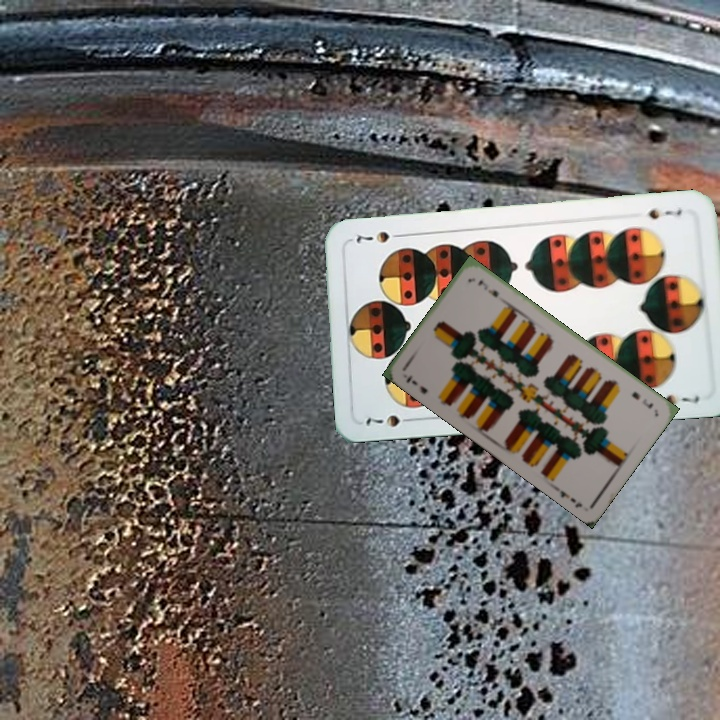E7: (402, 371, 430, 396), (627, 387, 656, 411)
S7: (362, 410, 419, 430), (644, 205, 685, 222)
